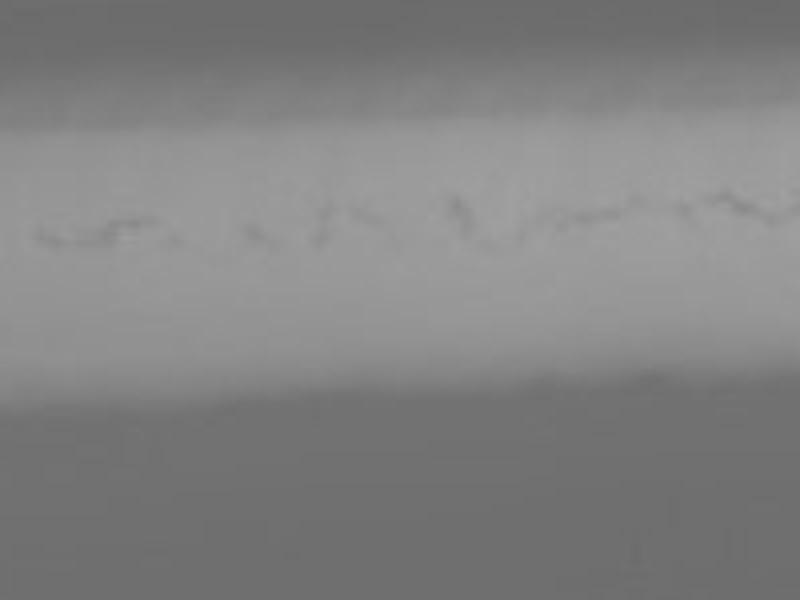defect: (42, 229, 120, 248), (447, 192, 476, 228), (109, 216, 163, 229), (309, 203, 340, 223), (676, 198, 701, 222), (703, 185, 734, 204), (734, 203, 768, 220), (574, 206, 599, 229), (311, 230, 334, 254), (604, 202, 626, 227), (244, 226, 261, 242), (552, 217, 568, 230)
